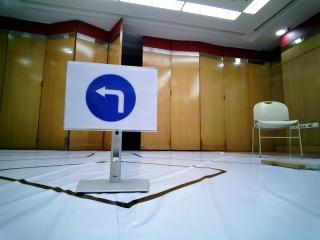left: (68, 71, 145, 127)
